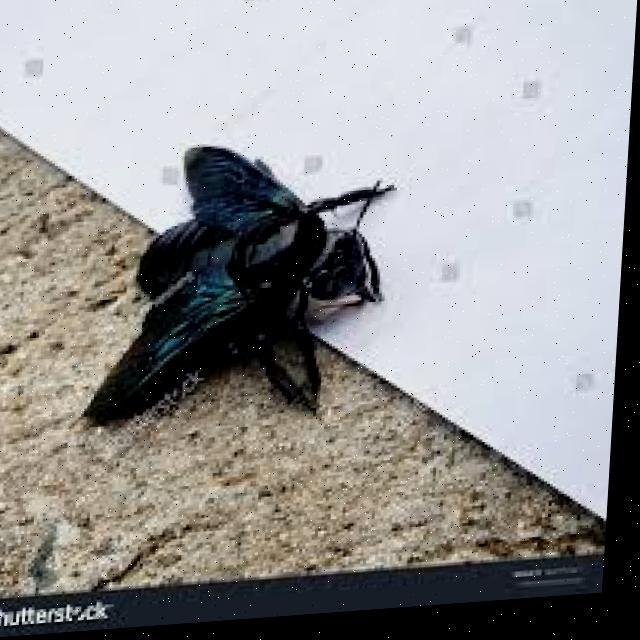Xylocopa: (102, 115, 429, 435)
